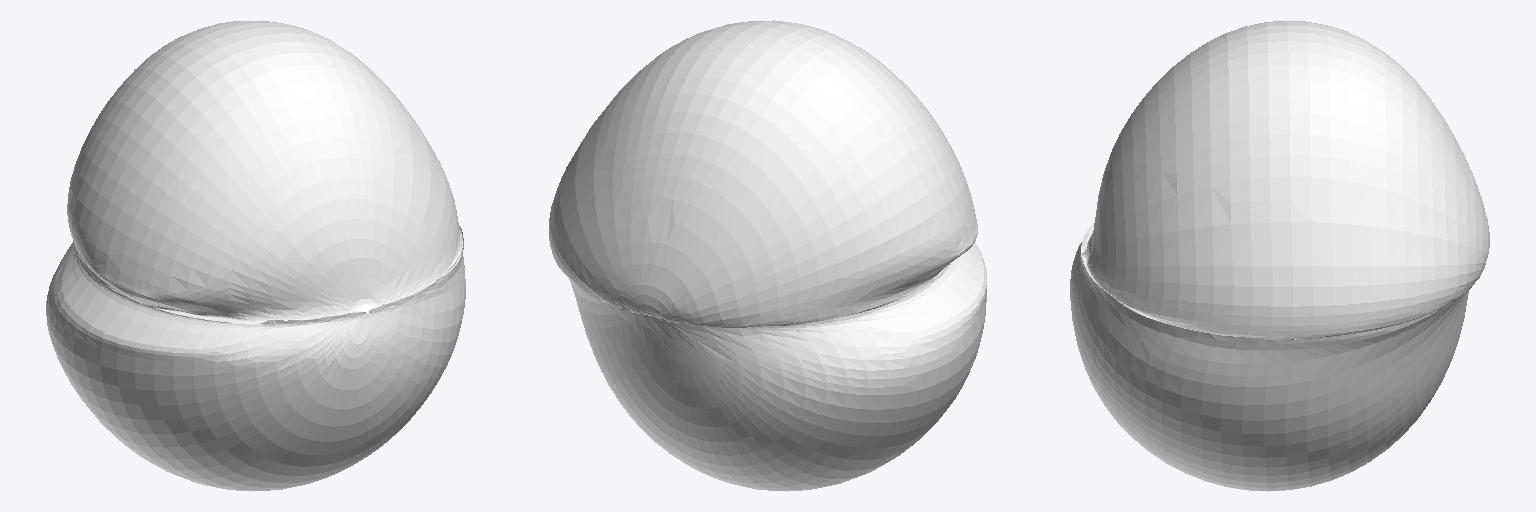
The robot description file, URDF, robot "Erliao3_urdf":
<?xml version="1.0" encoding="utf-8"?>
<!-- This URDF was automatically created by SolidWorks to URDF Exporter! Originally created by [author] ([email redacted]) 
     Commit Version: 1.6.0-4-g7f85cfe  Build Version: 1.6.7995.38578
     For more information, please see http://wiki.ros.org/sw_urdf_exporter -->
<robot
  name="Erliao3_urdf">
  <link
    name="base_link">
    <inertial>
      <origin
        xyz="0.00088175 0.0010228 0.02633"
        rpy="0 0 0" />
      <mass
        value="0.065659" />
      <inertia
        ixx="1.7355E-05"
        ixy="-1.3019E-08"
        ixz="-3.7384E-07"
        iyy="1.8034E-05"
        iyz="-7.7407E-07"
        izz="1.4945E-05" />
    </inertial>
    <visual>
      <origin
        xyz="0 0 0"
        rpy="0 0 0" />
      <geometry>
        <mesh
          filename="package://Erliao3_urdf/meshes/base_link.STL" />
      </geometry>
      <material
        name="">
        <color
          rgba="1 1 1 1" />
      </material>
    </visual>
    <collision>
      <origin
        xyz="0 0 0"
        rpy="0 0 0" />
      <geometry>
        <mesh
          filename="package://Erliao3_urdf/meshes/base_link.STL" />
      </geometry>
    </collision>
  </link>
</robot>

--- What the picture shows (computed from the rendered views, not written in the file) ---
The picture shows the robot from 3 angles, left to right: view 1: azimuth 30°, elevation 25°; view 2: azimuth 150°, elevation 25°; view 3: azimuth 270°, elevation 25°; orthographic projection.
Model Erliao3_urdf with 1 links and 0 joints (none), rooted at base_link, posed every joint at zero.
Links seen in each view (by area): view 1: base_link; view 2: base_link; view 3: base_link.
Boxes of the visible links, x1=… form: base_link: x1=46, y1=20, x2=465, y2=491; base_link: x1=549, y1=20, x2=986, y2=491; base_link: x1=1070, y1=21, x2=1489, y2=491.
Size in the robot's own frame: 0.0498 by 0.0483 by 0.0547 metres.
1 mesh visuals loaded from 1 distinct referenced files (1 binary STL).